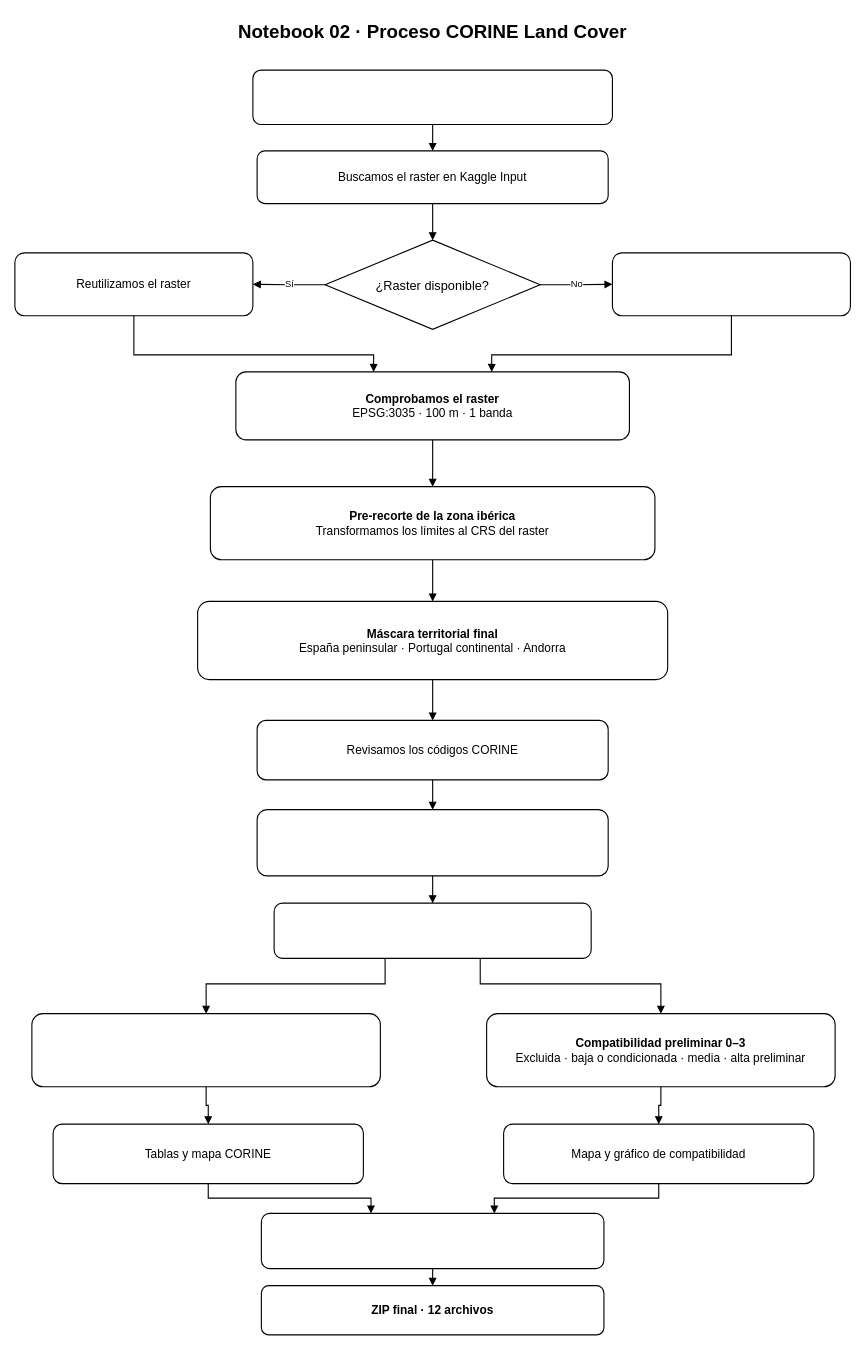
The diagram is 866 pixels wide and 1350 high, and some of its shapes have lost their labels. The box of each missing label's shape, as (x1, y1, x2, y2) in pixels:
44 clases CORINE válidas: (273, 902, 591, 959)
CORINE Land Cover 2018 · raster 100 m · EPSG:3035: (252, 69, 613, 125)
Código 48 = 999 · NODATA Lo excluimos del análisis: (256, 809, 608, 876)
Dashboard HTML: (260, 1212, 604, 1269)
Solicitamos y descargamos desde Copernicus CLMS: (611, 252, 851, 316)
Superficie por clase y por grupo 5 grupos de cobertura: (31, 1013, 381, 1087)
